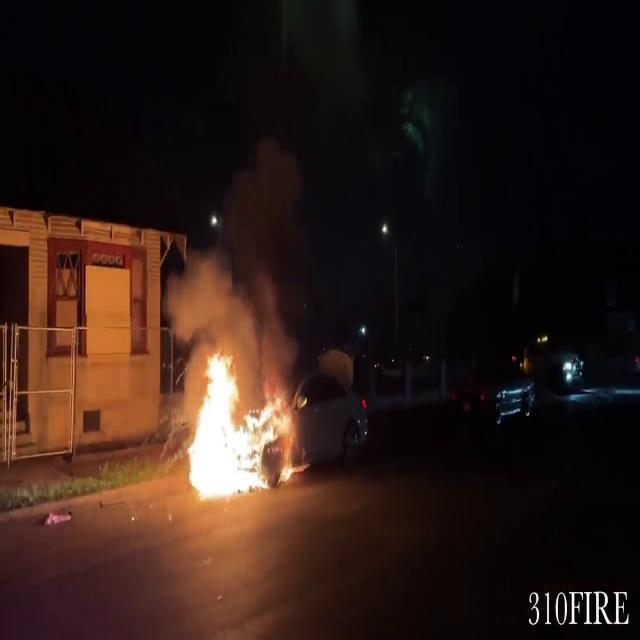Fire: (178, 344, 300, 503)
Smoke: (185, 122, 308, 358)
